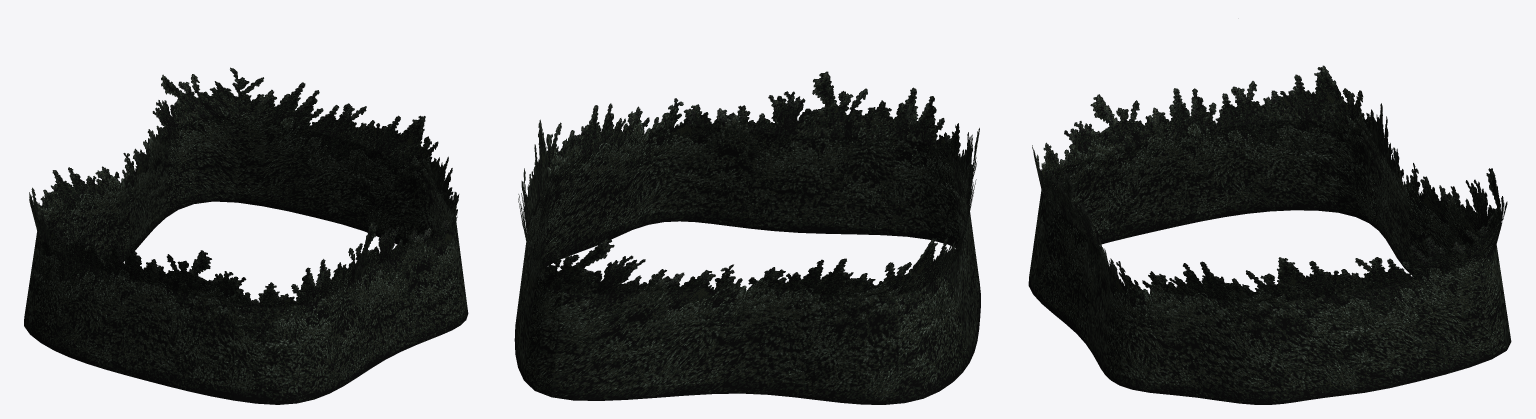
Rendered from SM_EC_ScrubLine_Alt_9.fbx.
The picture shows the model from 3 angles, left to right: view 1: azimuth 30°, elevation 25°; view 2: azimuth 150°, elevation 25°; view 3: azimuth 270°, elevation 25°; orthographic projection. The views are drawn at different scales.
Parts seen in each view (by area): view 1: SM_EC_ScrubLine_Alt_9; view 2: SM_EC_ScrubLine_Alt_9; view 3: SM_EC_ScrubLine_Alt_9.
Part boxes in pixels (<box>): SM_EC_ScrubLine_Alt_9: <box>24,67,468,404</box>; SM_EC_ScrubLine_Alt_9: <box>514,71,980,404</box>; SM_EC_ScrubLine_Alt_9: <box>1028,65,1511,404</box>.
Bounding box in the file's own units: 9.05 × 9.48 × 4.
